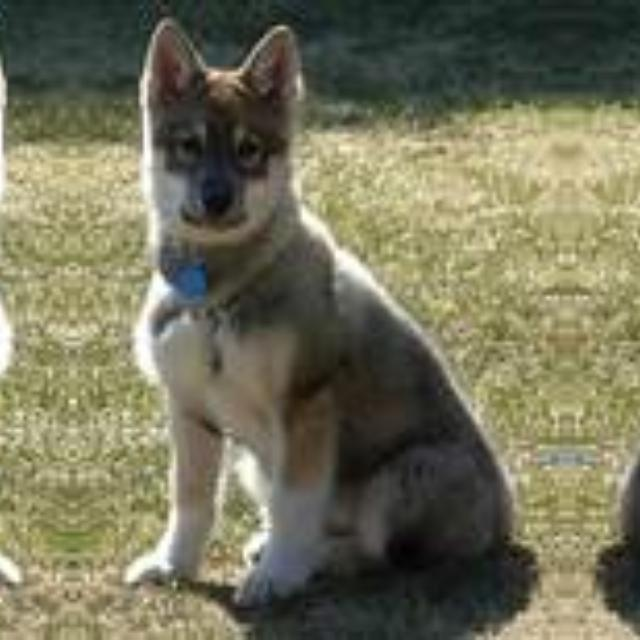dog: (104, 24, 530, 602), (0, 24, 39, 601), (603, 24, 640, 601)
